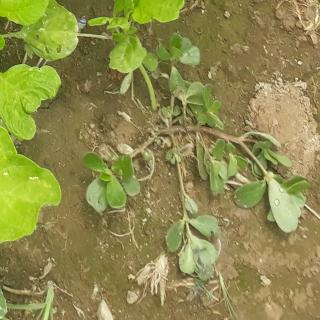karat_putih: (0, 115, 65, 253)
virus_keriting: (0, 62, 66, 146), (0, 0, 56, 29)
